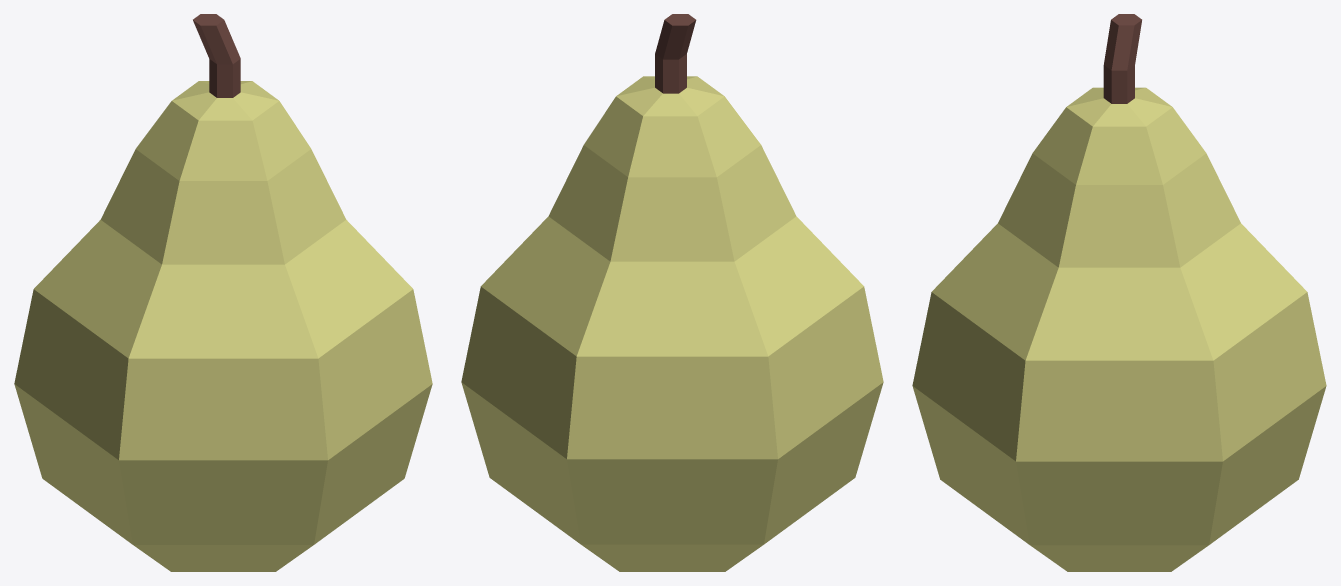
File: Pear.fbx
3 renders of one model, left to right at view 1: azimuth 30°, elevation 25°; view 2: azimuth 150°, elevation 25°; view 3: azimuth 270°, elevation 25°, orthographic.
Visible parts, largest first — view 1: Armut; view 2: Armut; view 3: Armut.
Boxes of the visible parts, bbox=[...] form: Armut: bbox=[14, 14, 432, 571]; Armut: bbox=[461, 14, 883, 571]; Armut: bbox=[912, 14, 1326, 571].
Bounding box in the file's own units: 173 × 275 × 200.
